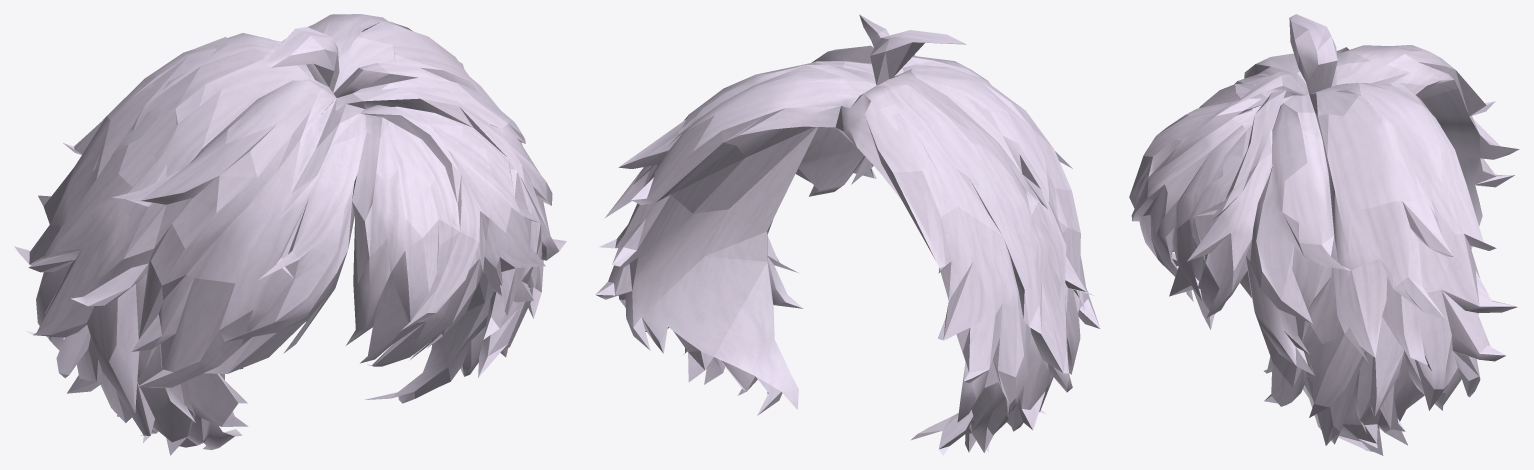
The model's file is source-hair.glb.
3 renders of one model, left to right at view 1: azimuth 30°, elevation 25°; view 2: azimuth 150°, elevation 25°; view 3: azimuth 270°, elevation 25°, orthographic. The views are drawn at different scales.
Visible parts, largest first — view 1: Mesh_0; view 2: Mesh_0; view 3: Mesh_0.
Part boxes in pixels (x1,y1,x2,y2): Mesh_0: (14, 14, 566, 455); Mesh_0: (595, 14, 1100, 455); Mesh_0: (1129, 14, 1519, 455).
Bounding box in the file's own units: 1.83 × 1.48 × 1.42.
1 material, 1 textured.
